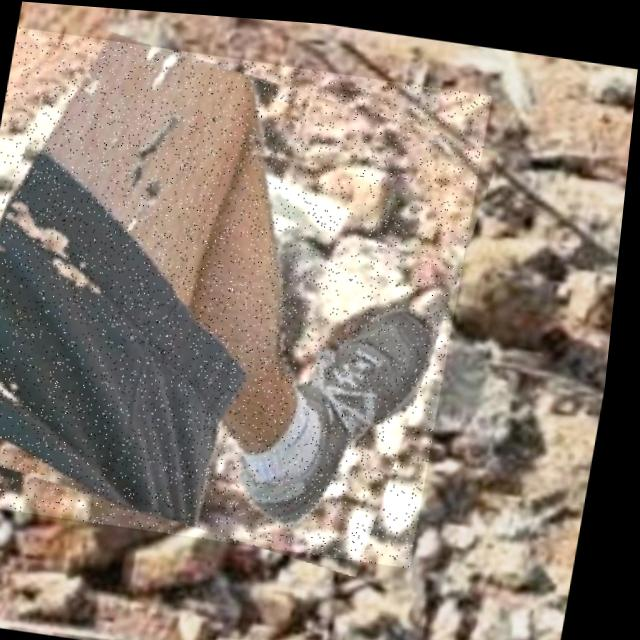Person in Rubble: (0, 25, 495, 562)
